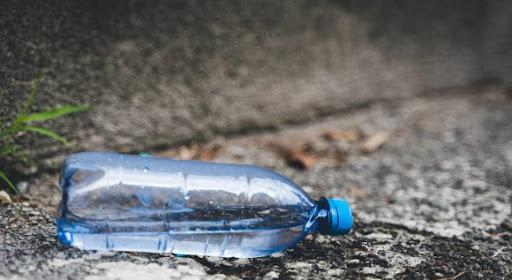paper: (54, 149, 355, 263)
